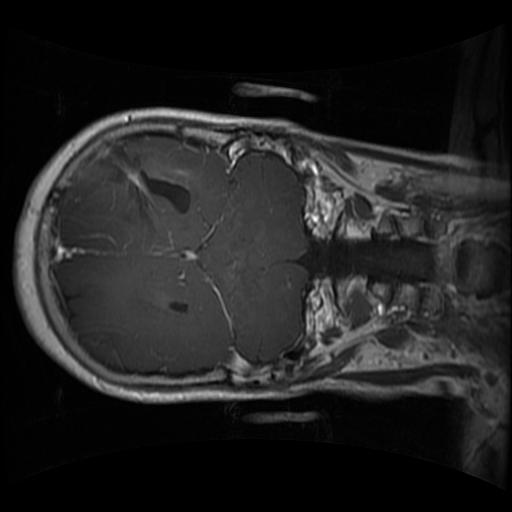glioma: (75, 143, 195, 220)
